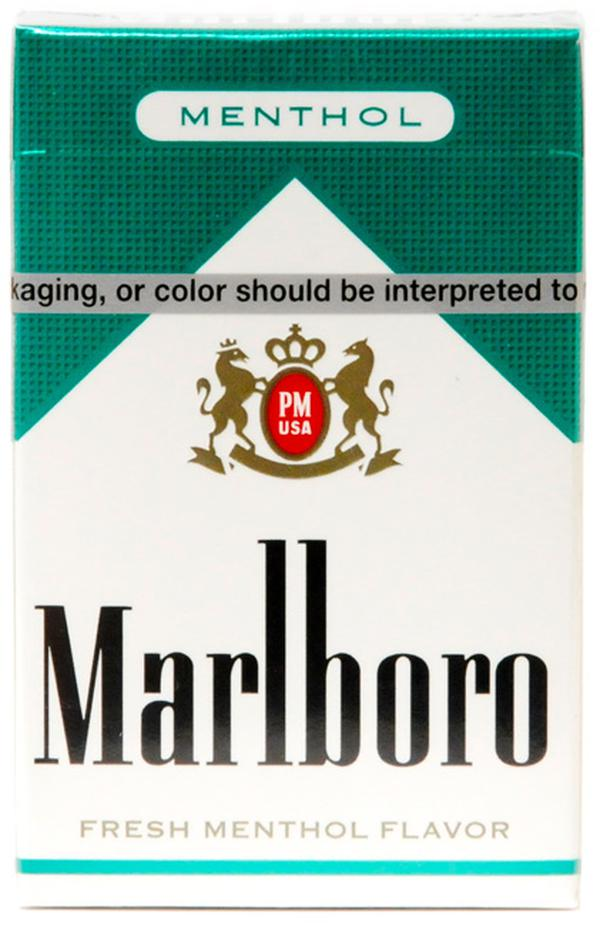marlboro_mentol: (19, 28, 583, 910)
